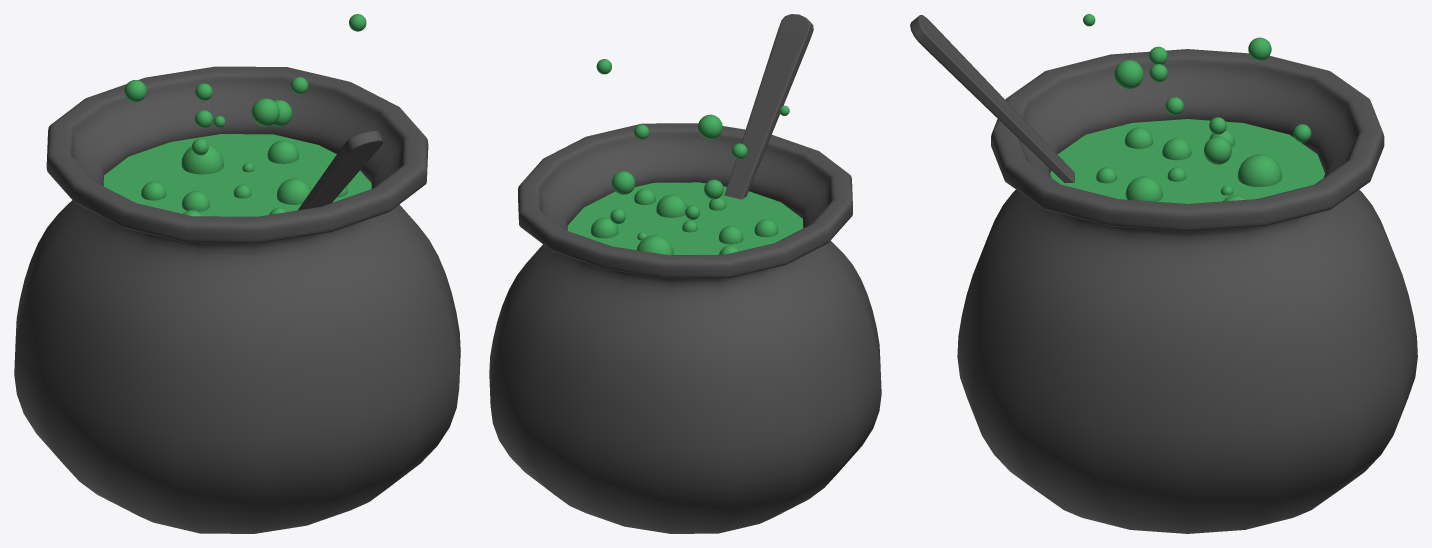
The model's file is Cauldron_low.fbx.
3 renders of one model, left to right at view 1: azimuth 30°, elevation 25°; view 2: azimuth 150°, elevation 25°; view 3: azimuth 270°, elevation 25°, orthographic. The views are drawn at different scales.
Visible parts, largest first — view 1: pCube1_low, pDisc1_low, pCube2_low, pSphere1_low, pSphere11_low, pSphere7_low, pSphere10_low; view 2: pCube1_low, pDisc1_low, pCube2_low, pSphere11_low, pSphere1_low, pSphere7_low, pSphere10_low; view 3: pCube1_low, pDisc1_low, pCube2_low, pSphere1_low, pSphere11_low, pSphere7_low, pSphere4_low.
Part boxes in pixels (left/top/right/bottom): pCube1_low: left=14, top=66, right=460, bottom=533; pDisc1_low: left=103, top=134, right=371, bottom=216; pCube2_low: left=298, top=131, right=383, bottom=210; pSphere1_low: left=181, top=144, right=223, bottom=174; pSphere11_low: left=276, top=178, right=311, bottom=204; pSphere7_low: left=251, top=98, right=279, bottom=126; pSphere10_low: left=267, top=140, right=298, bottom=163; pCube1_low: left=489, top=123, right=881, bottom=533; pDisc1_low: left=567, top=182, right=803, bottom=254; pCube2_low: left=724, top=14, right=813, bottom=199; pSphere11_low: left=656, top=194, right=687, bottom=217; pSphere1_low: left=637, top=235, right=673, bottom=255; pSphere7_low: left=698, top=114, right=722, bottom=139; pSphere10_low: left=590, top=217, right=618, bottom=238; pCube1_low: left=957, top=49, right=1417, bottom=533; pDisc1_low: left=1050, top=119, right=1324, bottom=203; pCube2_low: left=910, top=15, right=1074, bottom=182; pSphere1_low: left=1237, top=154, right=1281, bottom=186; pSphere11_low: left=1125, top=176, right=1162, bottom=201; pSphere7_low: left=1114, top=60, right=1143, bottom=89; pSphere4_low: left=1204, top=136, right=1231, bottom=164.
Size of the model in its own units: 20.72 by 24.22 by 22.85.
